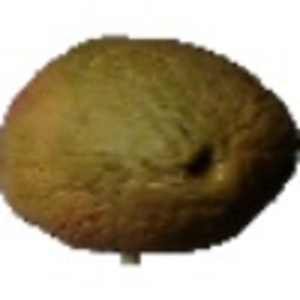mamão: (3, 29, 295, 256)
